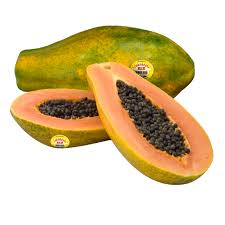papaya: (85, 63, 212, 185), (13, 25, 196, 100), (10, 88, 112, 148)
